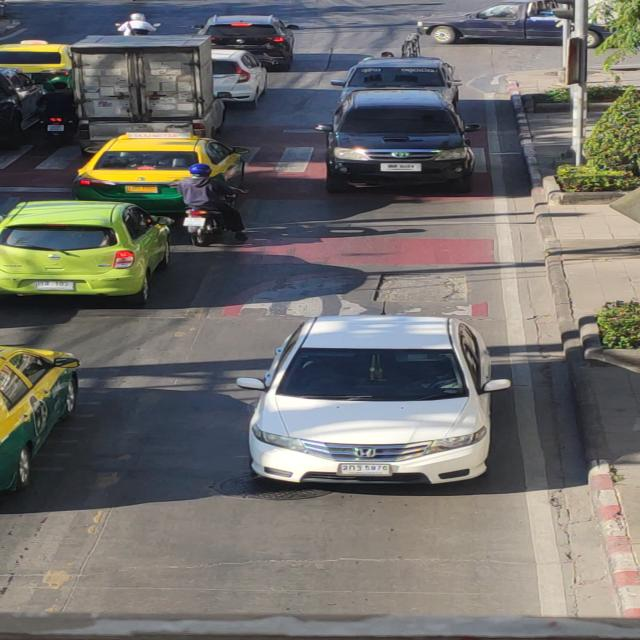car: (223, 294, 506, 511), (311, 89, 499, 194)
